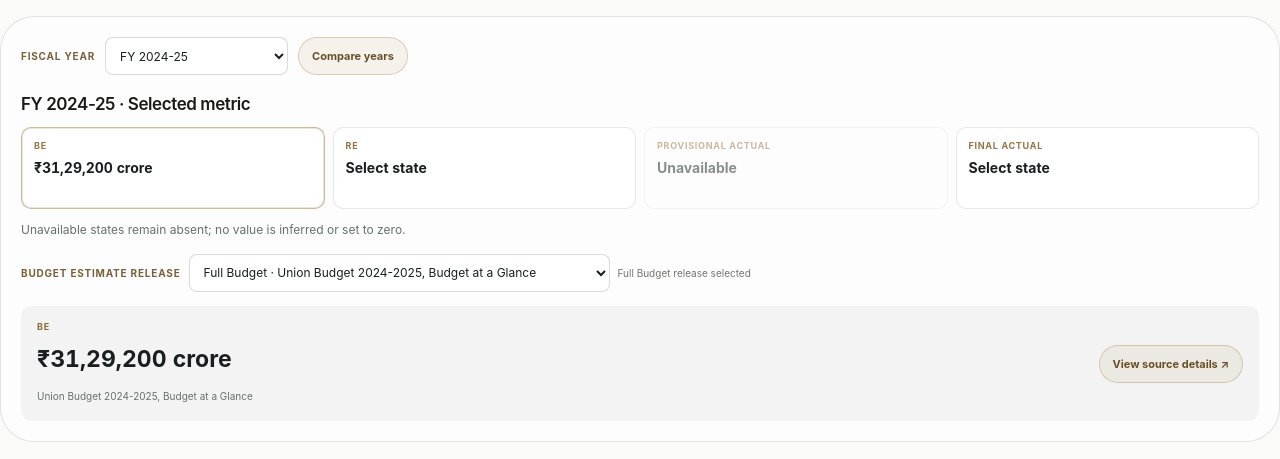
Historical fiscal comparison panel › selects RE and final actual as separate FY 2024-25 states
Check: the heading "FY 2024-25 · Selected metric" is shown, box [21, 94, 250, 114]
Click the button "RE Select state": click(386, 168) [332, 127, 636, 209]
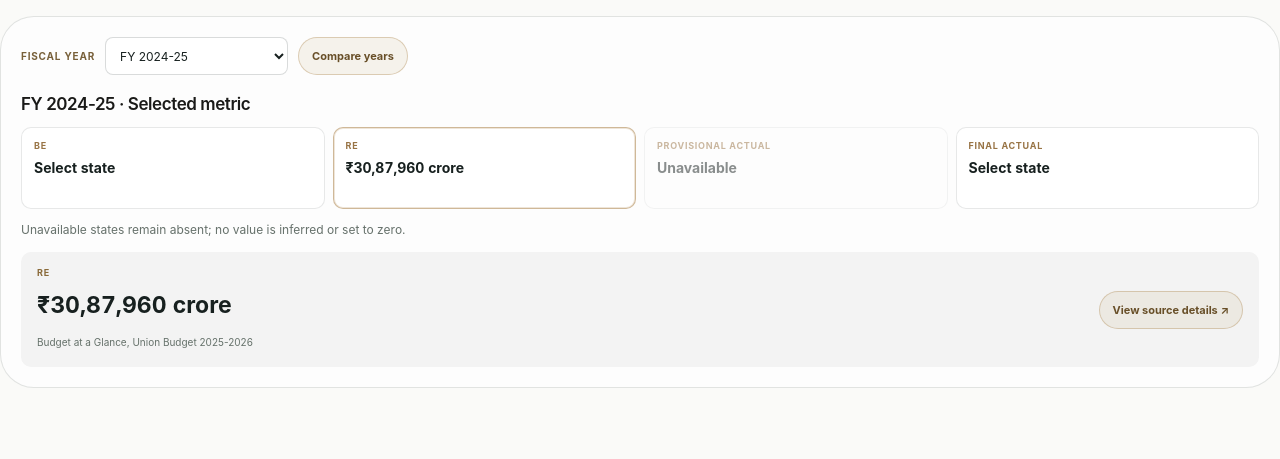
Check: the button "RE ₹30,87,960 crore" is pressed, box [332, 127, 636, 209]
Click the button "Final actual Select state": click(1006, 146) [956, 127, 1259, 209]
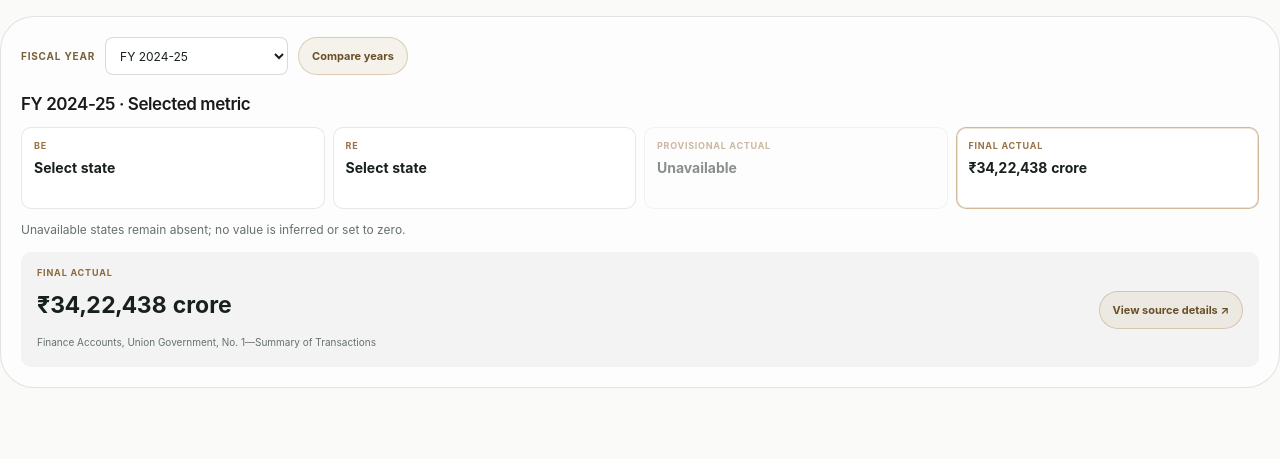
Check: the text "Finance Accounts" is shown, box [37, 336, 376, 348]
